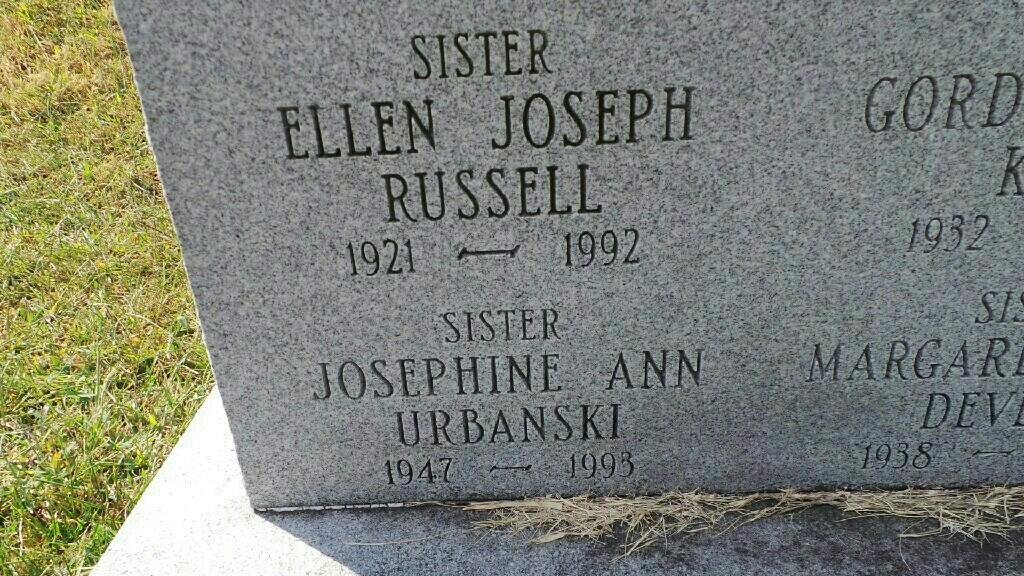upright: (115, 0, 1024, 510)
